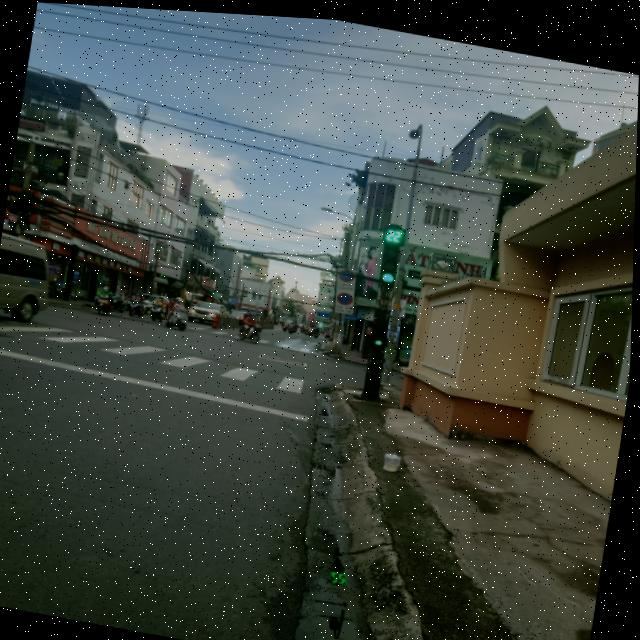Green: (370, 232, 406, 282), (370, 311, 399, 346)
